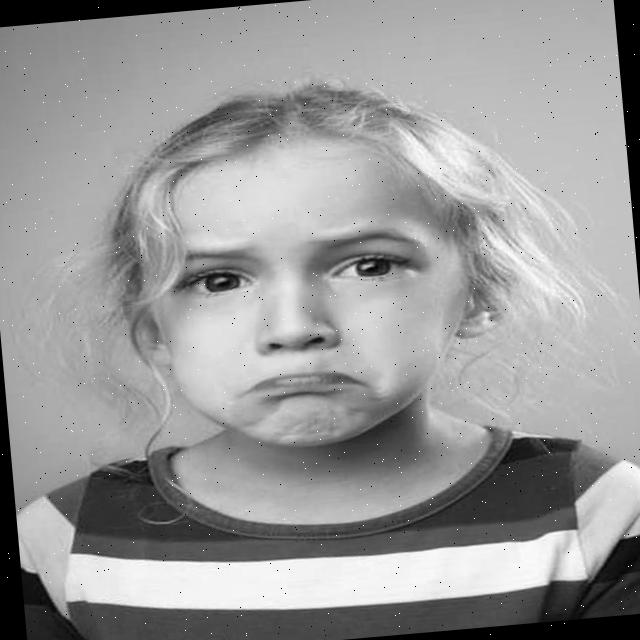Sadness: (157, 136, 450, 457)
